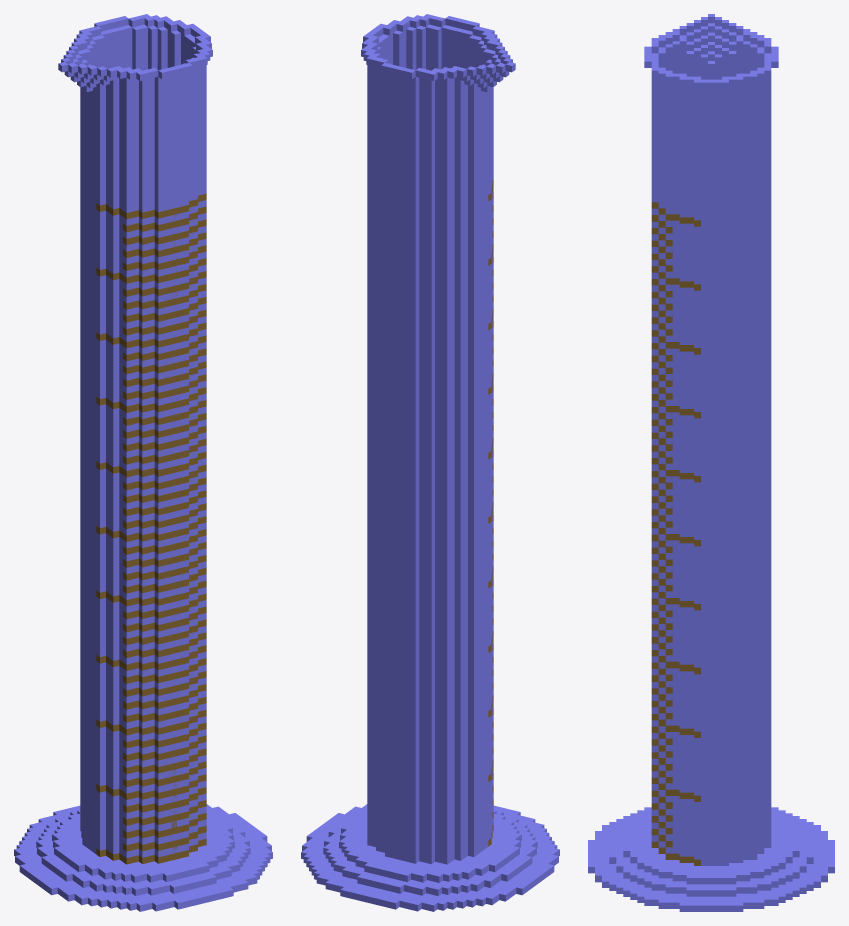
Rendered from Measuring cylinder1-2-1.fbx.
The picture shows the model from 3 angles, left to right: view 1: azimuth 30°, elevation 25°; view 2: azimuth 150°, elevation 25°; view 3: azimuth 270°, elevation 25°; orthographic projection.
Visible parts, largest first — view 1: Measuring cylinder1-2-1.001, Measuring cylinder1-2-1.002; view 2: Measuring cylinder1-2-1.001, Measuring cylinder1-2-1.002; view 3: Measuring cylinder1-2-1.001, Measuring cylinder1-2-1.002.
Boxes of the visible parts, x1=… form: Measuring cylinder1-2-1.001: x1=14, y1=14, x2=272, y2=911; Measuring cylinder1-2-1.002: x1=96, y1=193, x2=206, y2=864; Measuring cylinder1-2-1.001: x1=301, y1=14, x2=559, y2=911; Measuring cylinder1-2-1.002: x1=488, y1=179, x2=493, y2=846; Measuring cylinder1-2-1.001: x1=588, y1=14, x2=834, y2=911; Measuring cylinder1-2-1.002: x1=651, y1=202, x2=700, y2=865.
Size of the model in its own units: 3.5 by 12.6 by 3.5.
